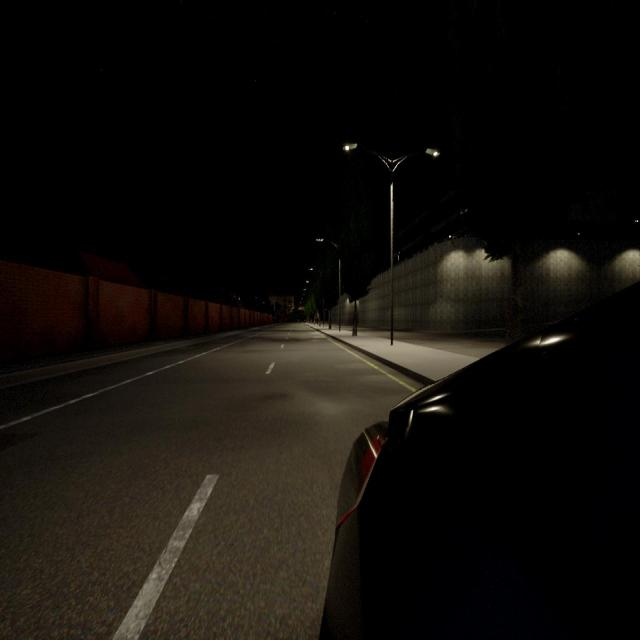Vehicle: (320, 291, 640, 638)
